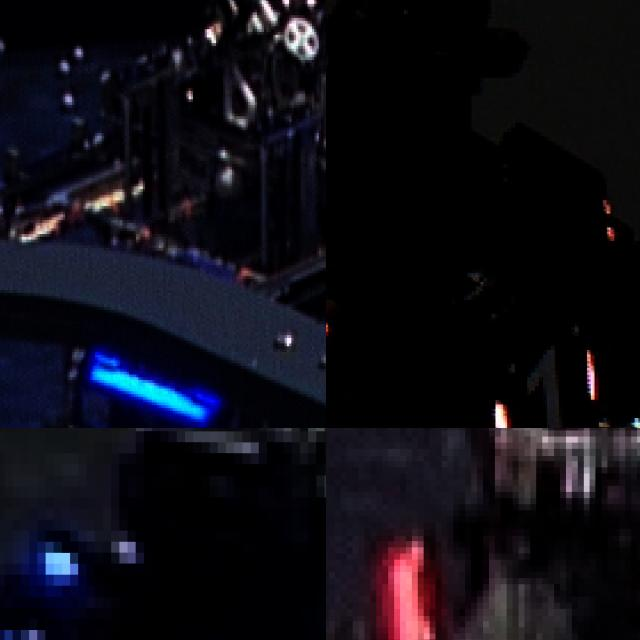R1: (491, 343, 596, 428)
